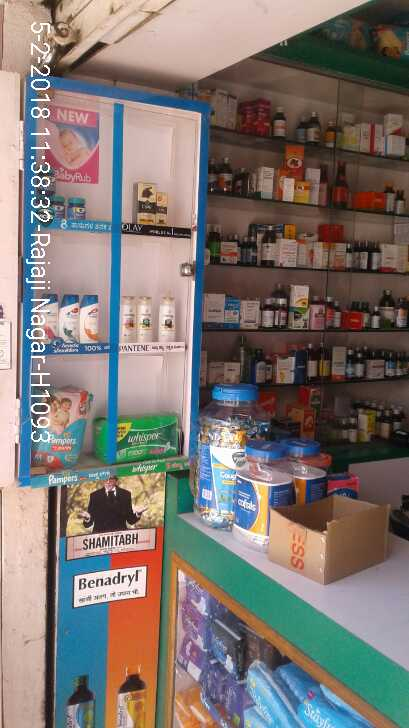beauty: (79, 292, 102, 347), (58, 291, 81, 346), (156, 297, 179, 347), (38, 293, 60, 343), (119, 295, 140, 340), (135, 183, 155, 225), (138, 297, 154, 342), (154, 193, 168, 228)
pharmacy: (28, 388, 91, 465), (111, 415, 185, 462), (196, 418, 248, 448), (67, 193, 89, 220), (47, 193, 63, 217)
